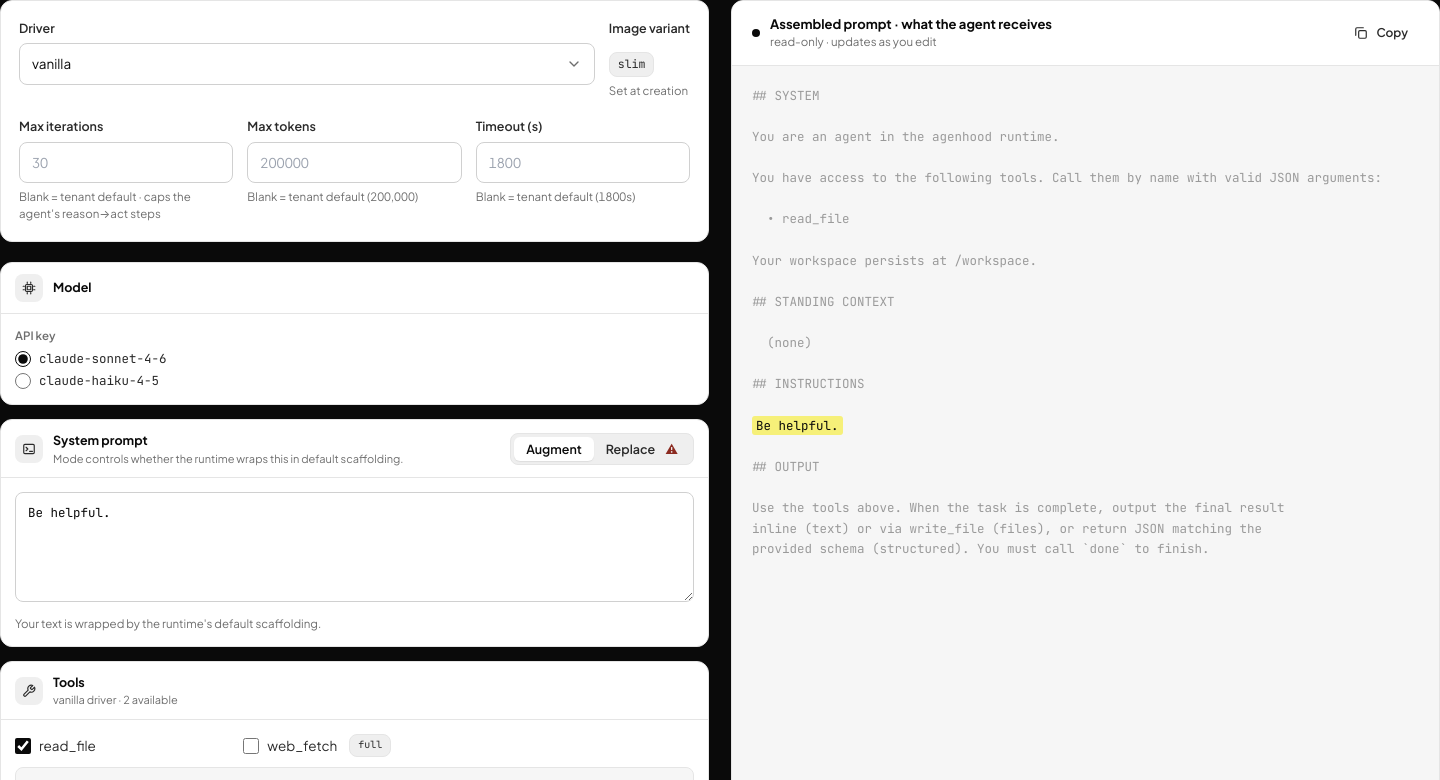
Test case: Configuration editor (driver-aware) › shows the assembled preview verbatim in replace mode
The image size is (1440, 780).
Click the button "Replace ⚠" at [642, 449], box [594,437,690,461]
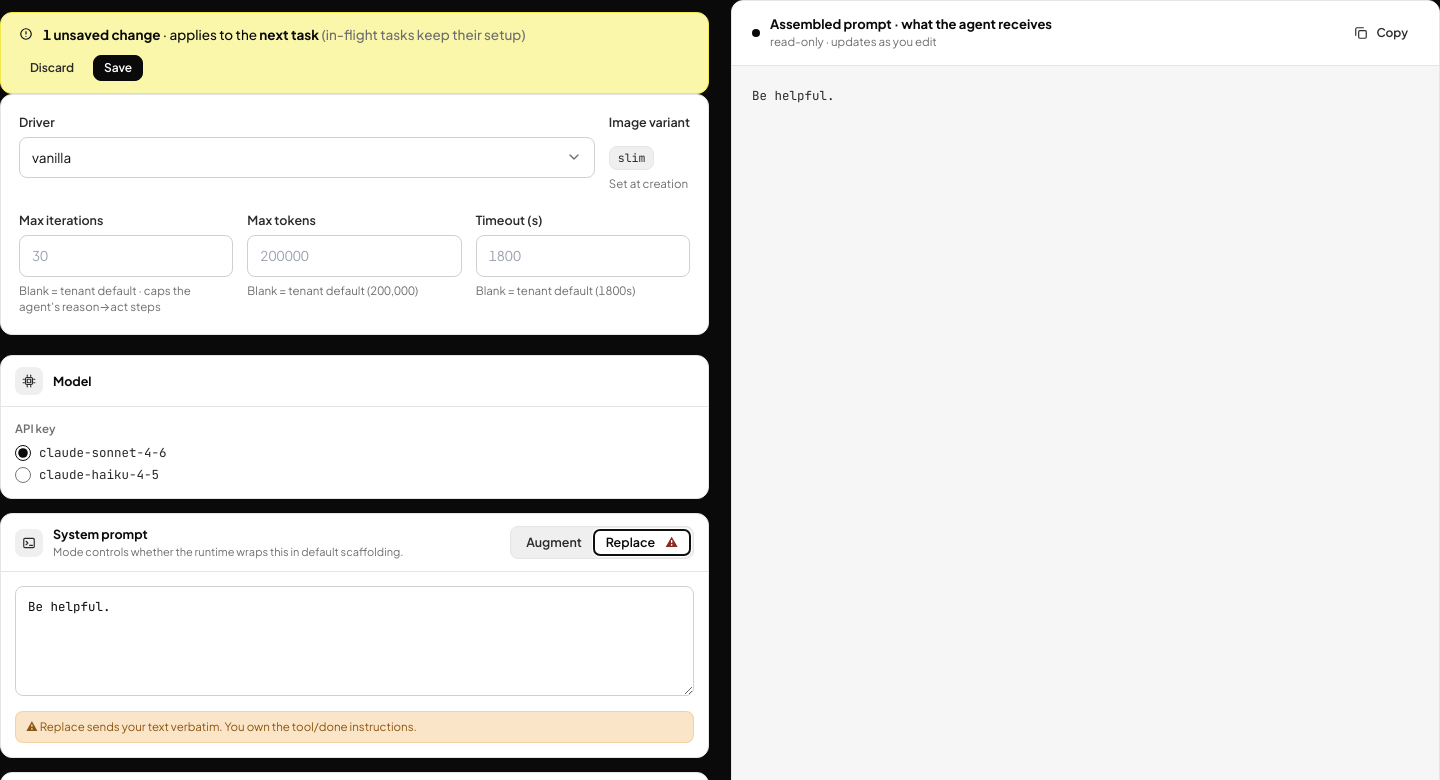
Replace the text in the text box named "System prompt" with "RAW VERBATIM PROMPT" at [354, 641], box [15,586,694,696]
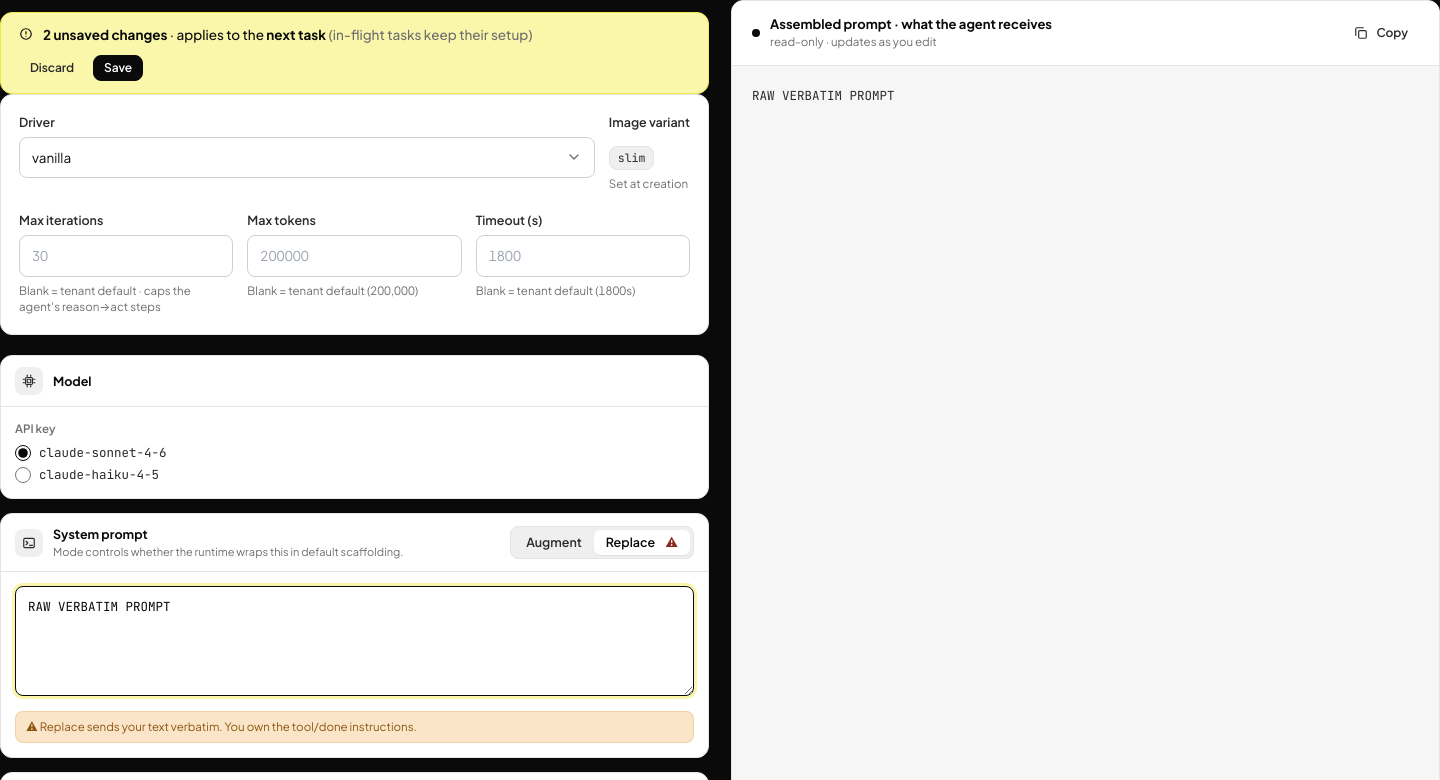
Check: the element with test id "assembled-preview" does not show "## SYSTEM", box [752,86,894,104]
Check: the element with test id "assembled-preview" reads "RAW VERBATIM PROMPT", box [752,86,894,104]
